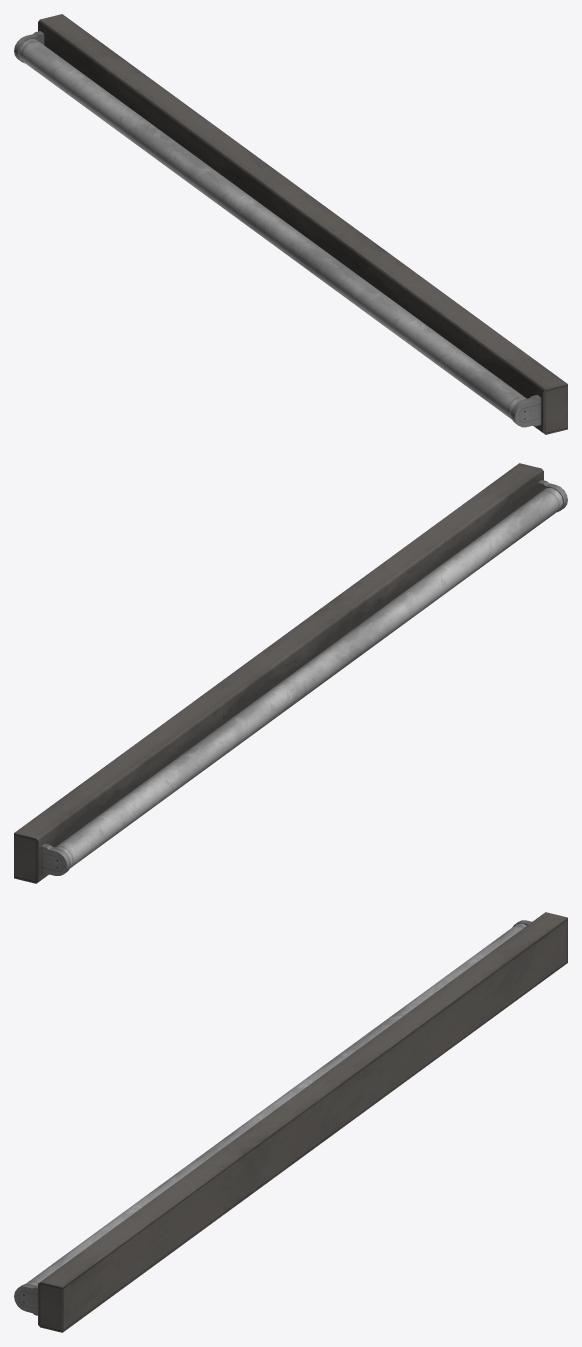
The model's file is TubeLight.fbx.
3 renders of one model, top to bottom at view 1: azimuth 30°, elevation 25°; view 2: azimuth 150°, elevation 25°; view 3: azimuth 330°, elevation 25°, orthographic.
Parts seen in each view (by area): view 1: TubeLight; view 2: TubeLight; view 3: TubeLight.
Part boxes in pixels (box(x1,y1,x2,y2)): TubeLight: box(14, 14, 567, 434); TubeLight: box(14, 463, 567, 883); TubeLight: box(14, 912, 567, 1332).
Bounding box in the file's own units: 10.91 × 9.31 × 188.
Materials: 1 (1 with a texture image).
